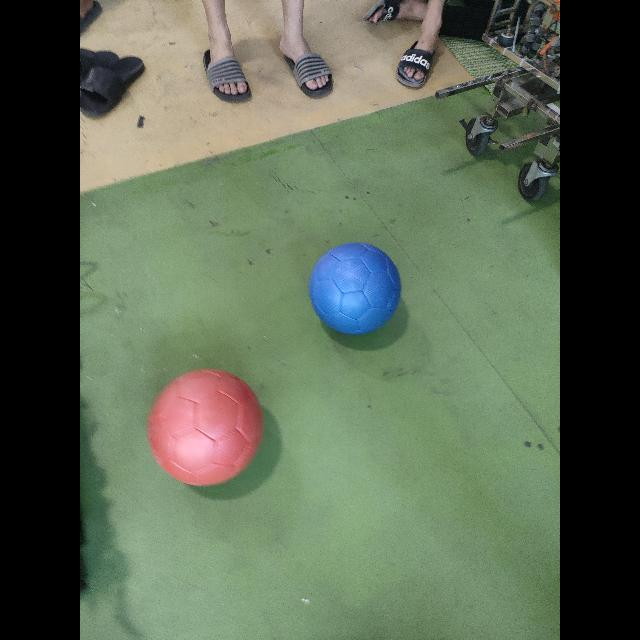B: (308, 243, 402, 339)
R: (146, 369, 265, 490)
